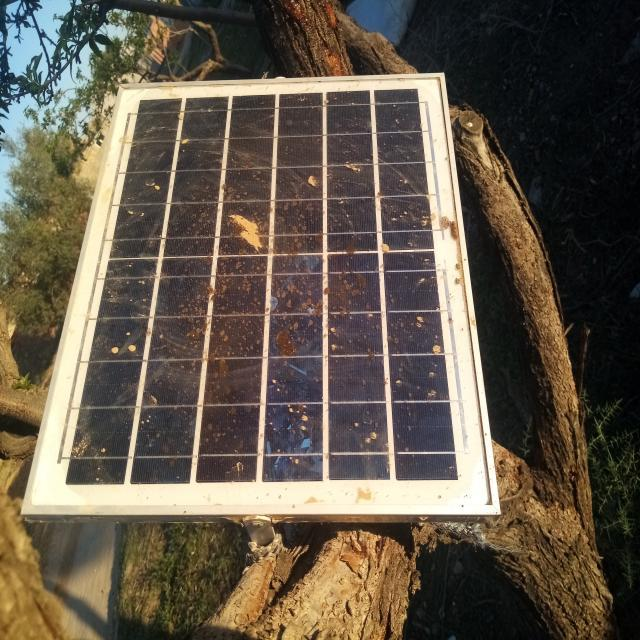faulty: (28, 76, 497, 511)
